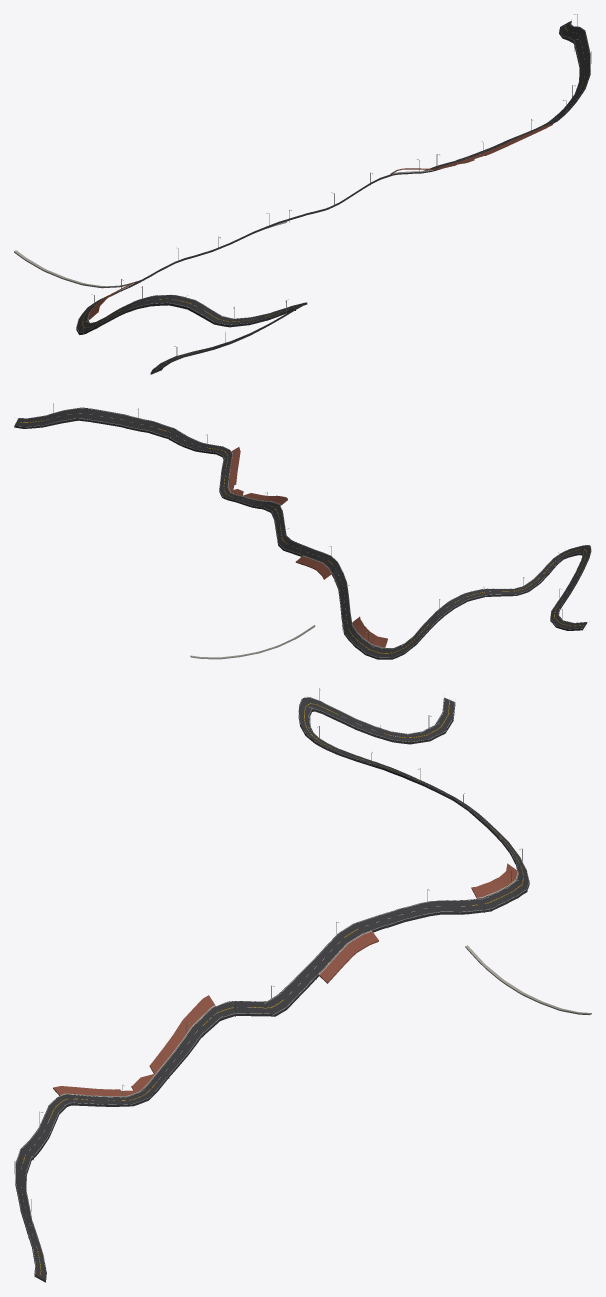
3 renders of one model, top to bottom at view 1: azimuth 90°, elevation 25°; view 2: azimuth 150°, elevation 25°; view 3: azimuth 270°, elevation 25°, orthographic. The views are drawn at different scales.
Bounding box in the file's own units: 593 × 94.92 × 310.
